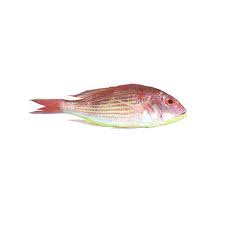Ikan Kerisi: (21, 68, 204, 137)
